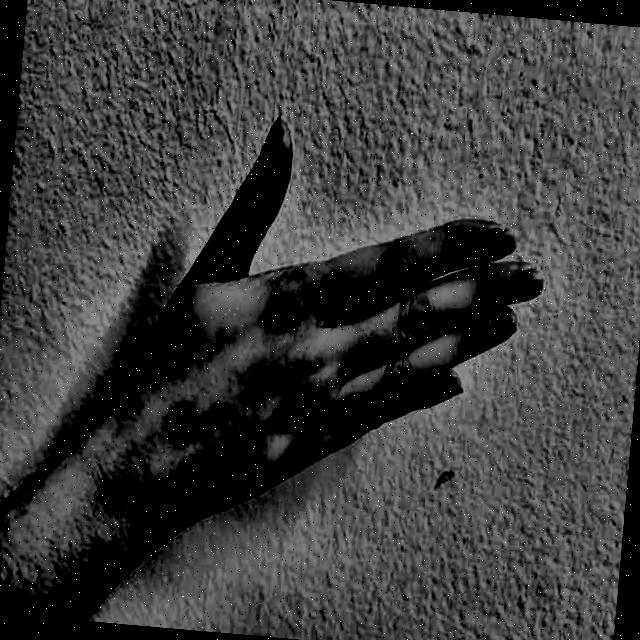Aa: (106, 65, 572, 562)
